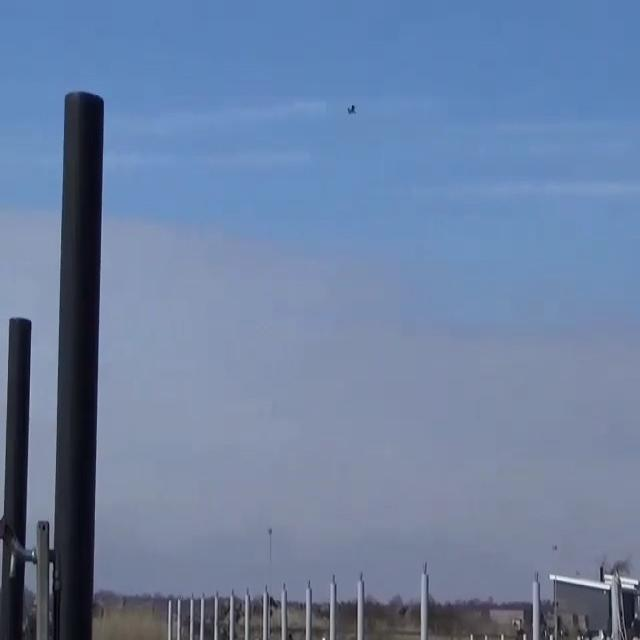bird: (340, 98, 364, 124)
